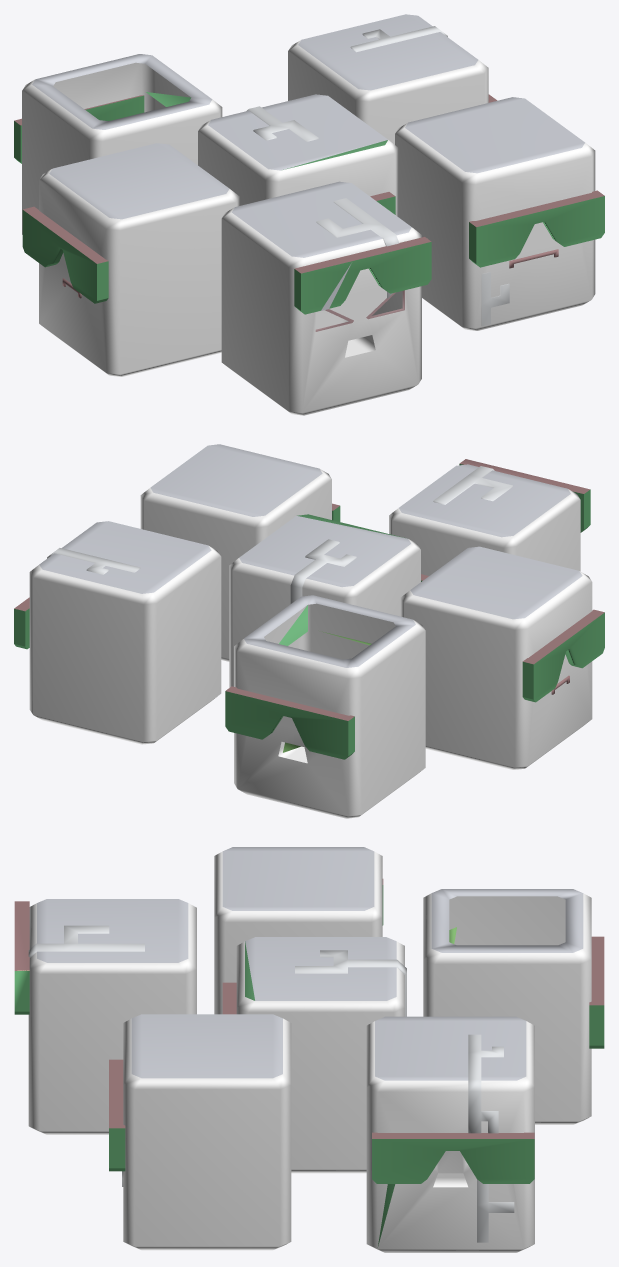
3 views of the same model, one above another, from view 1: azimuth 30°, elevation 25°; view 2: azimuth 150°, elevation 25°; view 3: azimuth 270°, elevation 25° (orthographic). The views are drawn at different scales.
Parts seen in each view (by area): view 1: pq0102sg, pq0102sg_obj; view 2: pq0102sg, pq0102sg_obj; view 3: pq0102sg, pq0102sg_obj.
Boxes of the visible parts, box(x1,y1,x2,y2) form: pq0102sg: box(22, 14, 595, 415); pq0102sg_obj: box(14, 94, 604, 314); pq0102sg: box(29, 444, 592, 818); pq0102sg_obj: box(14, 459, 604, 759); pq0102sg: box(28, 847, 591, 1252); pq0102sg_obj: box(14, 879, 604, 1183).
Size of the model in its own units: 2.76 by 0.883 by 2.72.
